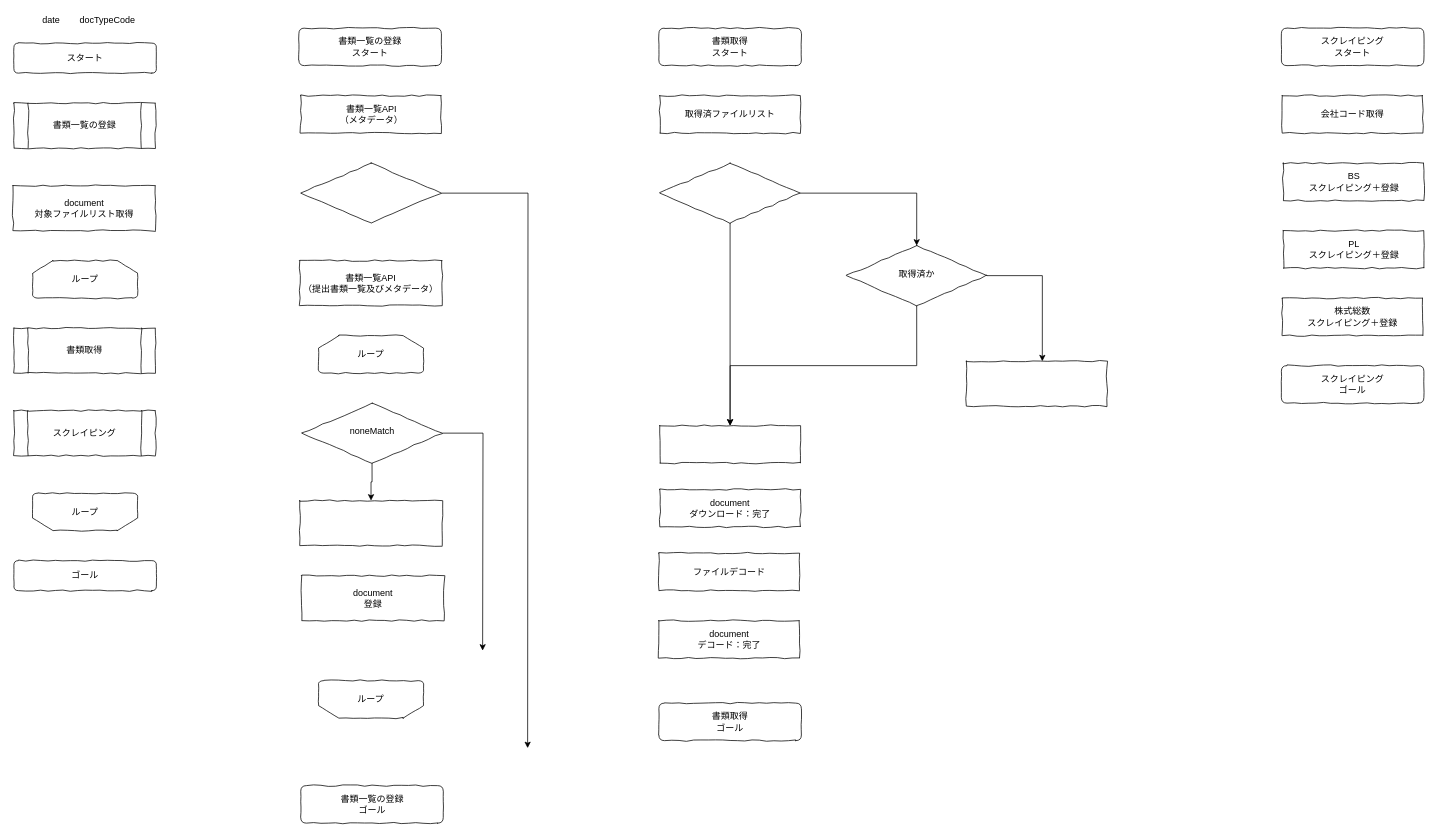
Some shapes in this 1438 by 836 pixel diagram are drawn without their labels. The centre of each missing label's shape, as x and y in pixels:
count ≠ 0: the point at 370,192
document ダウンロード：完了 デコード：完了: the point at 1036,383
edinet-document 登録: the point at 370,523
ファイルダウンロード: the point at 729,444
リストがあるか: the point at 729,192
